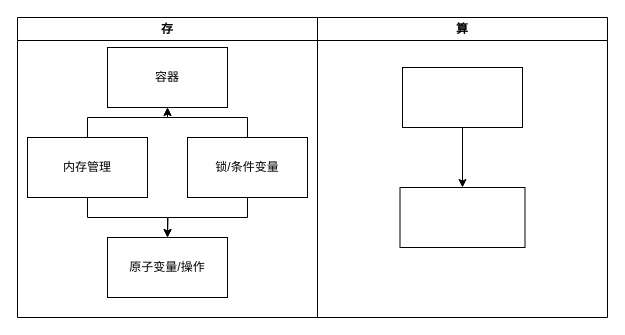
Image size: 625x335. Some labels were removed from this diagram. Each missing label, with the centre of its shape:
信号管理: (462,217)
线程管理: (462,97)
